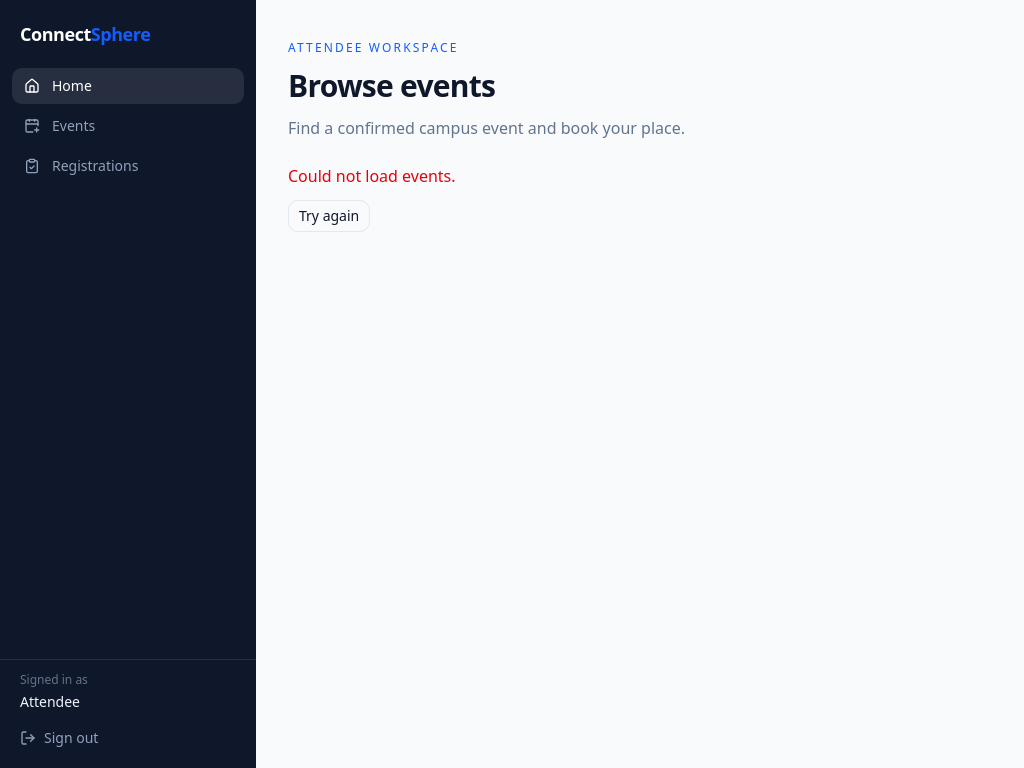
Scenario: browse pages preserve honest capacity labels and can retry after an error
Expected: the message reads "Could not load events.", [288, 165, 456, 187]
Click the button "Try again" at [329, 216], box [288, 200, 370, 232]
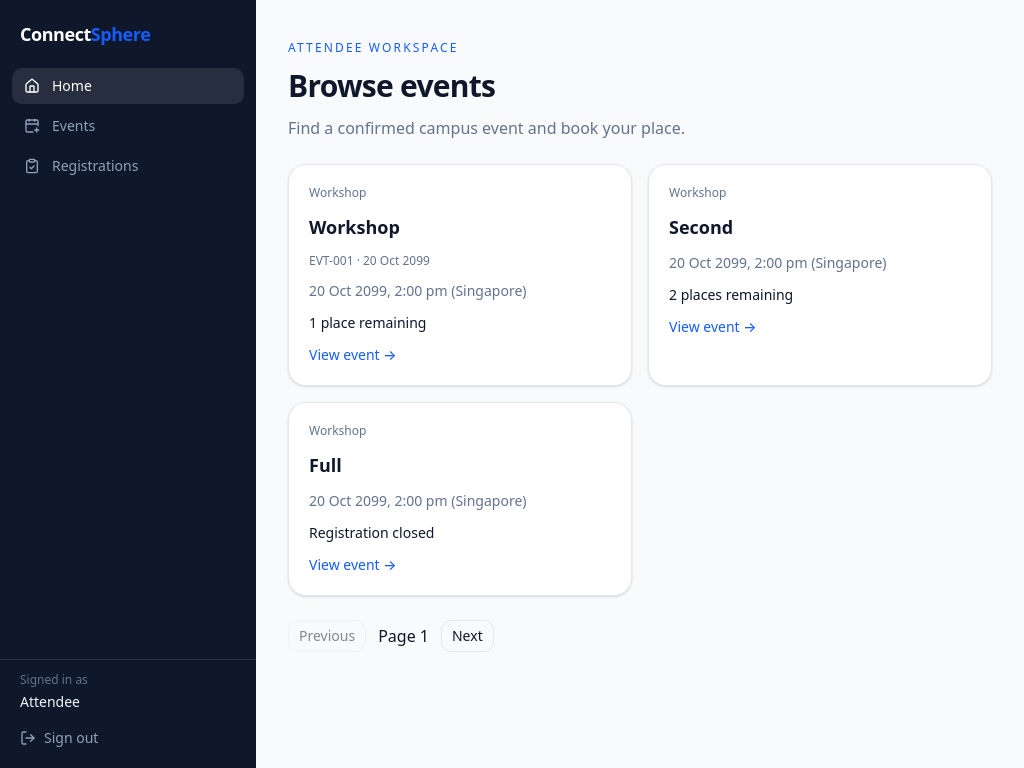
Result: the text "1 place remaining" is shown at [309, 313, 426, 332]
Result: the text "2 places remaining" is shown at [669, 285, 793, 304]
Result: the text "Registration closed" is shown at [309, 523, 434, 542]
Click the button "Next" at [467, 636], box [441, 620, 494, 652]
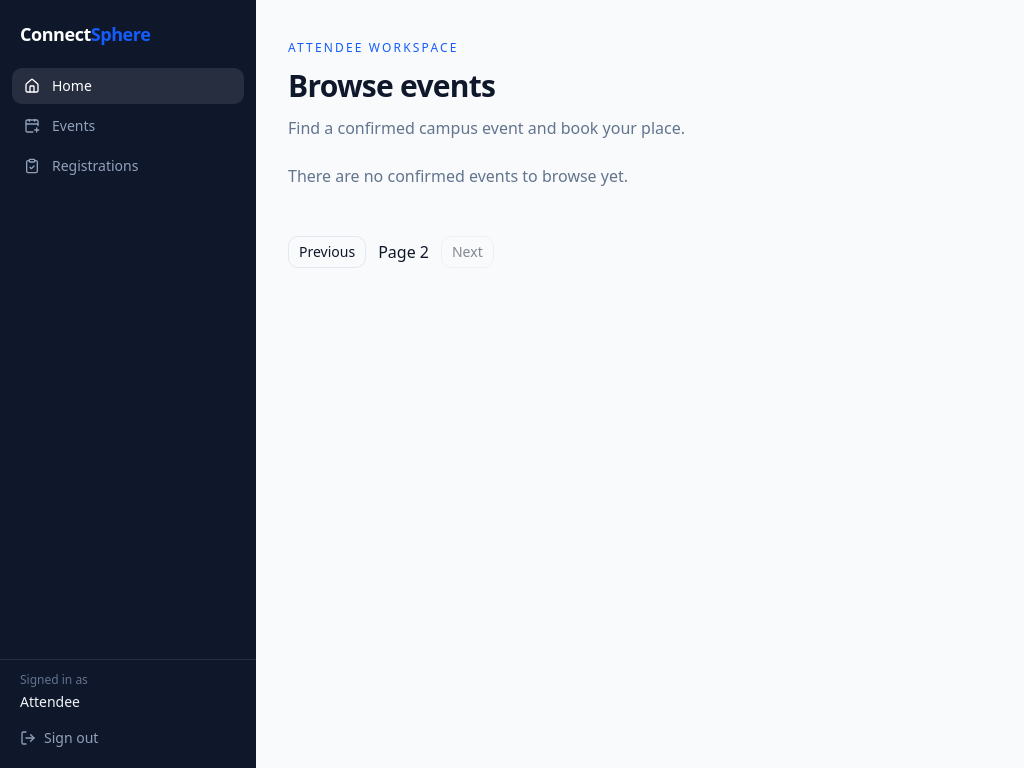
Result: the text "Page 2" is shown at [378, 240, 429, 264]
Result: the text "There are no confirmed events to browse yet." is shown at [288, 165, 628, 187]
Click the button "Previous" at [327, 252], box [288, 236, 366, 268]
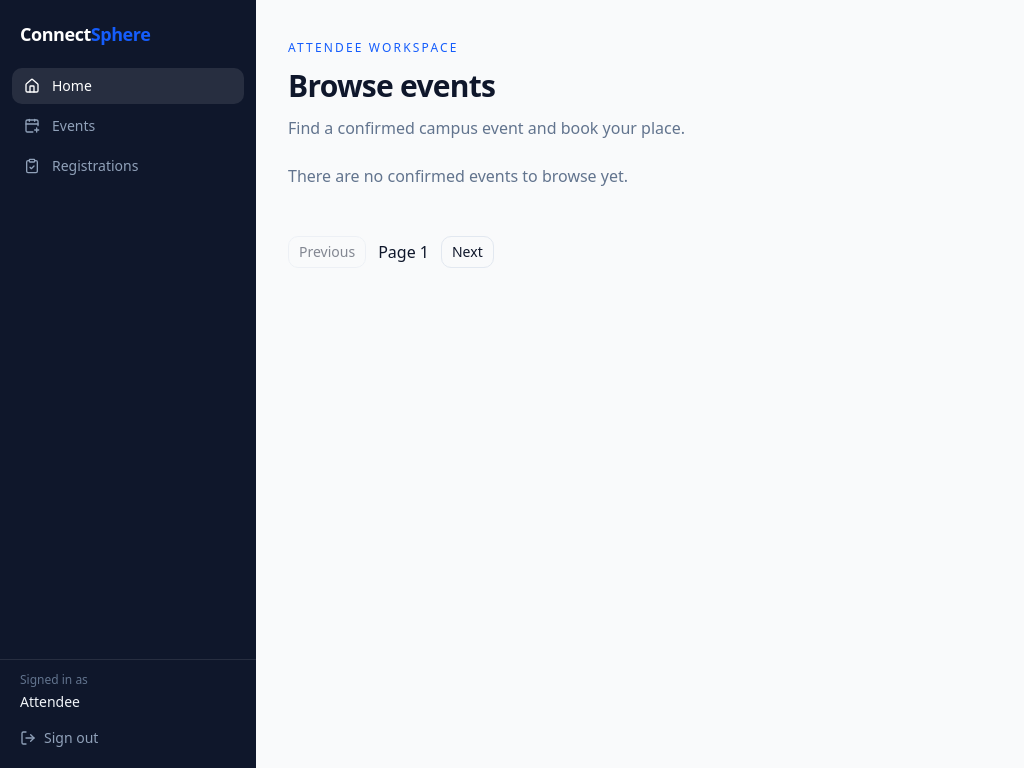
Result: the text "Page 1" is shown at [378, 240, 429, 264]
